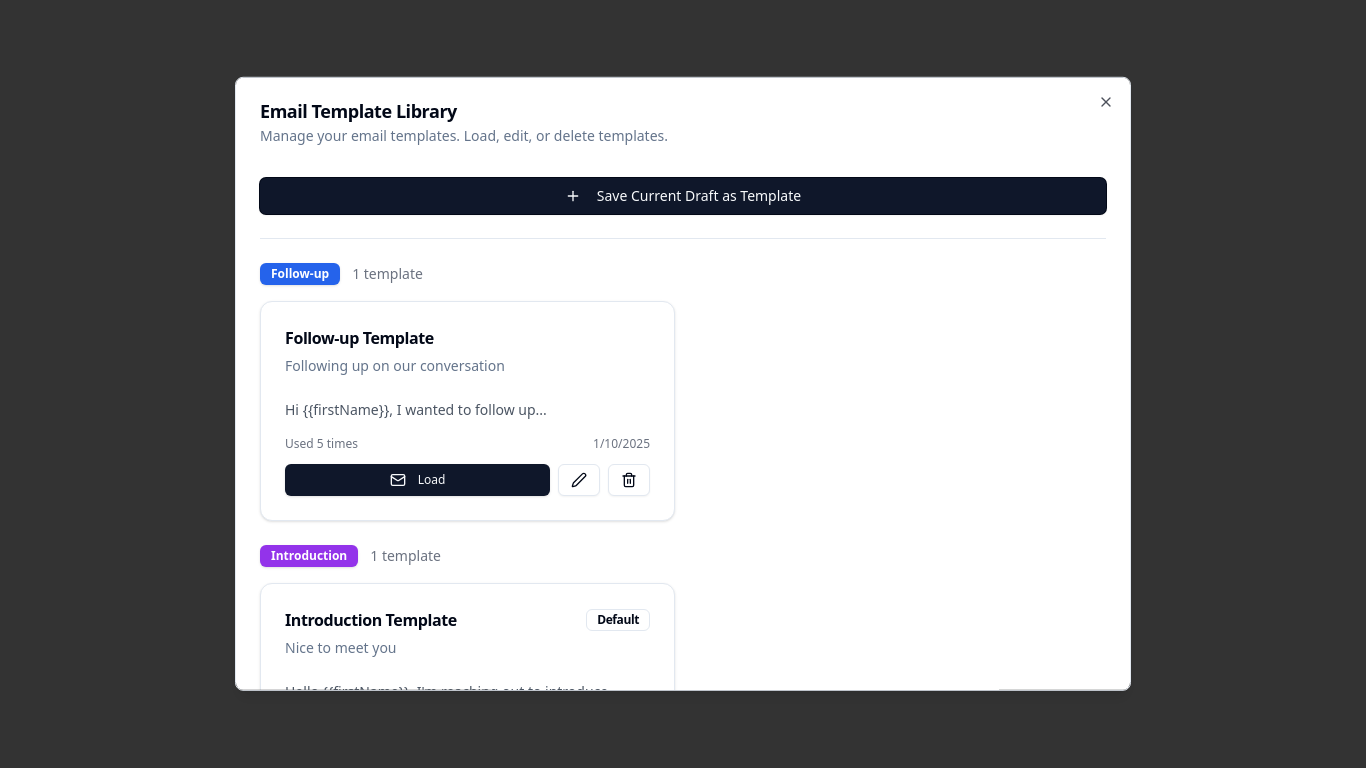
TemplateLibrary › 20.7 Save as Template › should open save modal when save button clicked
Click the button "Save Current Draft as Template".
click(683, 196)  # box [260, 178, 1106, 214]
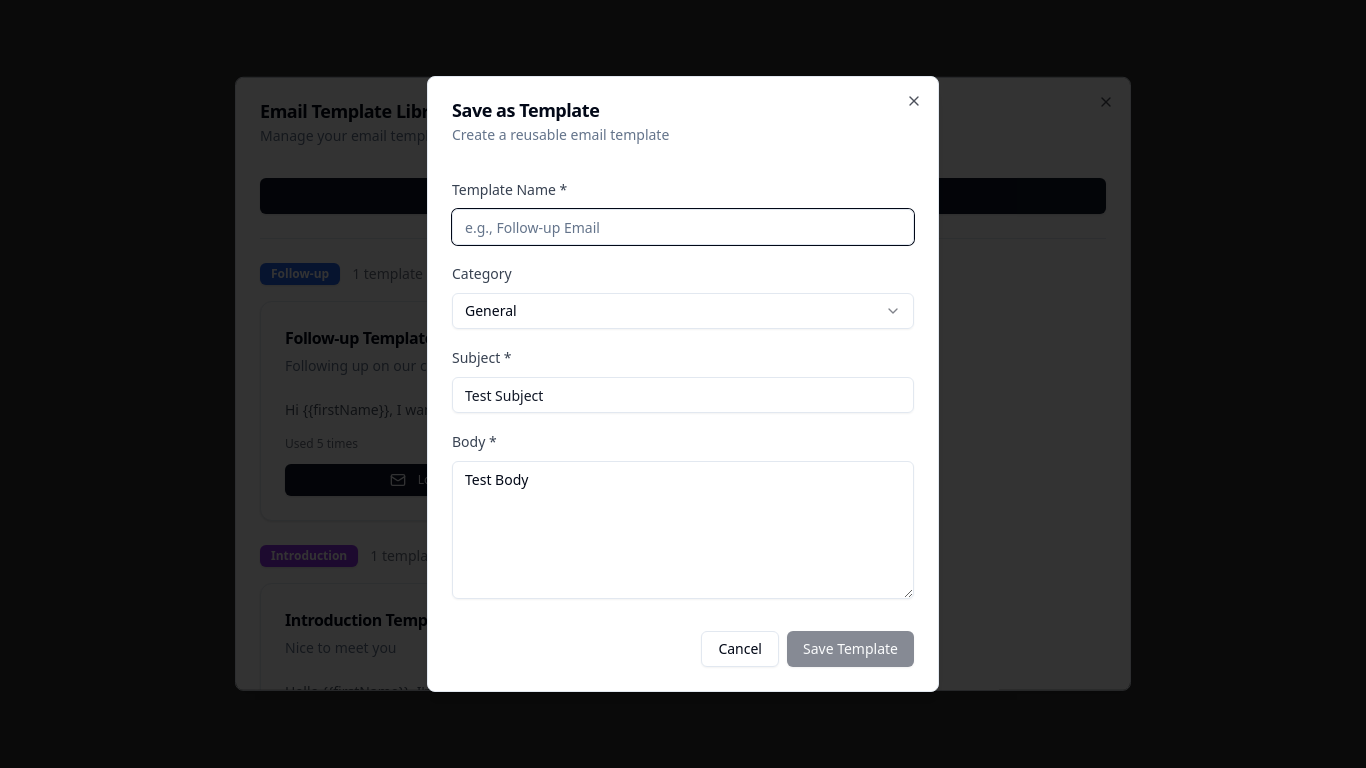
Expected: the field labelled "Template Name *" is shown, [452, 209, 914, 245]
